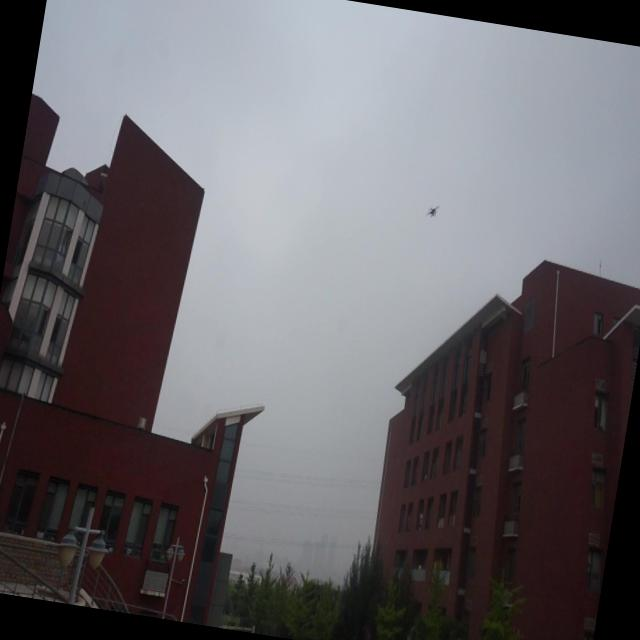drone: (422, 198, 445, 225)
